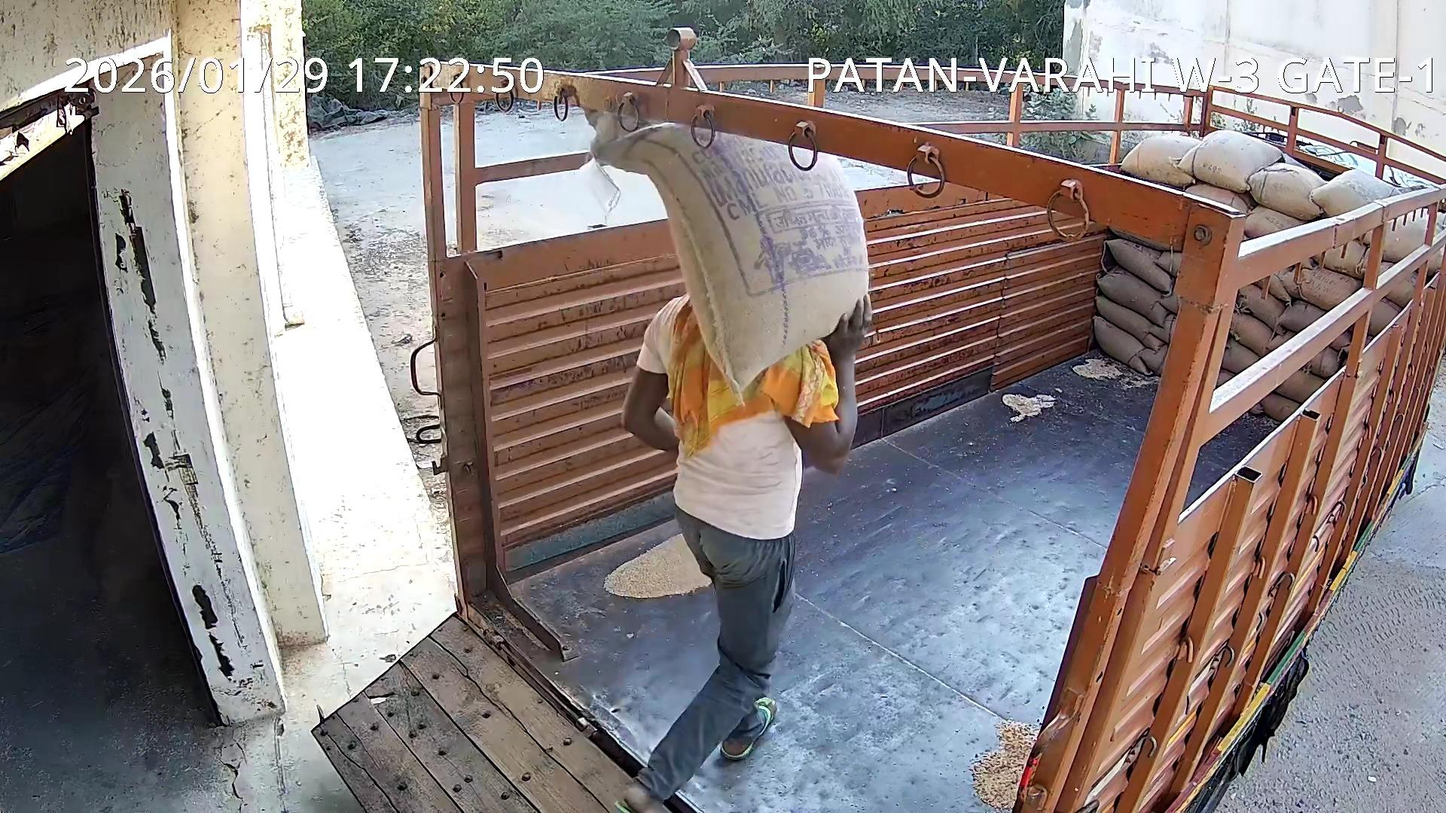Sack: (592, 113, 868, 389)
